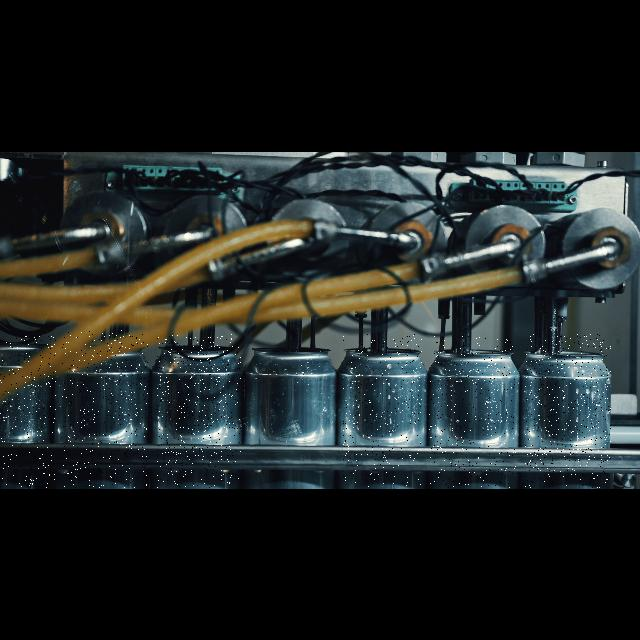empty: (247, 332, 335, 488), (62, 330, 148, 488), (428, 336, 516, 488), (525, 334, 611, 488), (157, 334, 241, 488), (342, 334, 422, 488), (0, 336, 56, 488)
